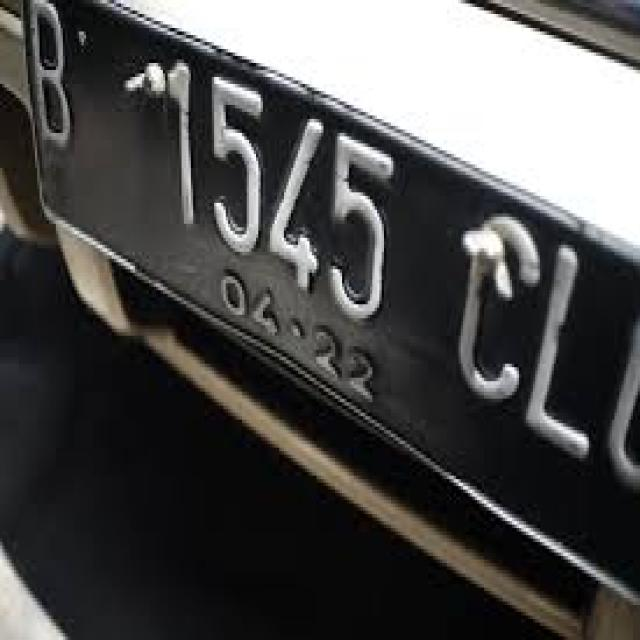license-plat: (27, 0, 640, 610)
